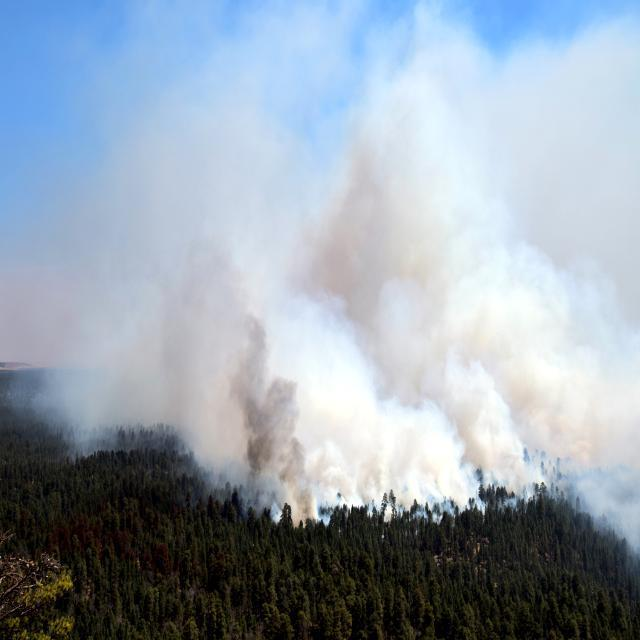Smoke: (50, 51, 626, 526)
